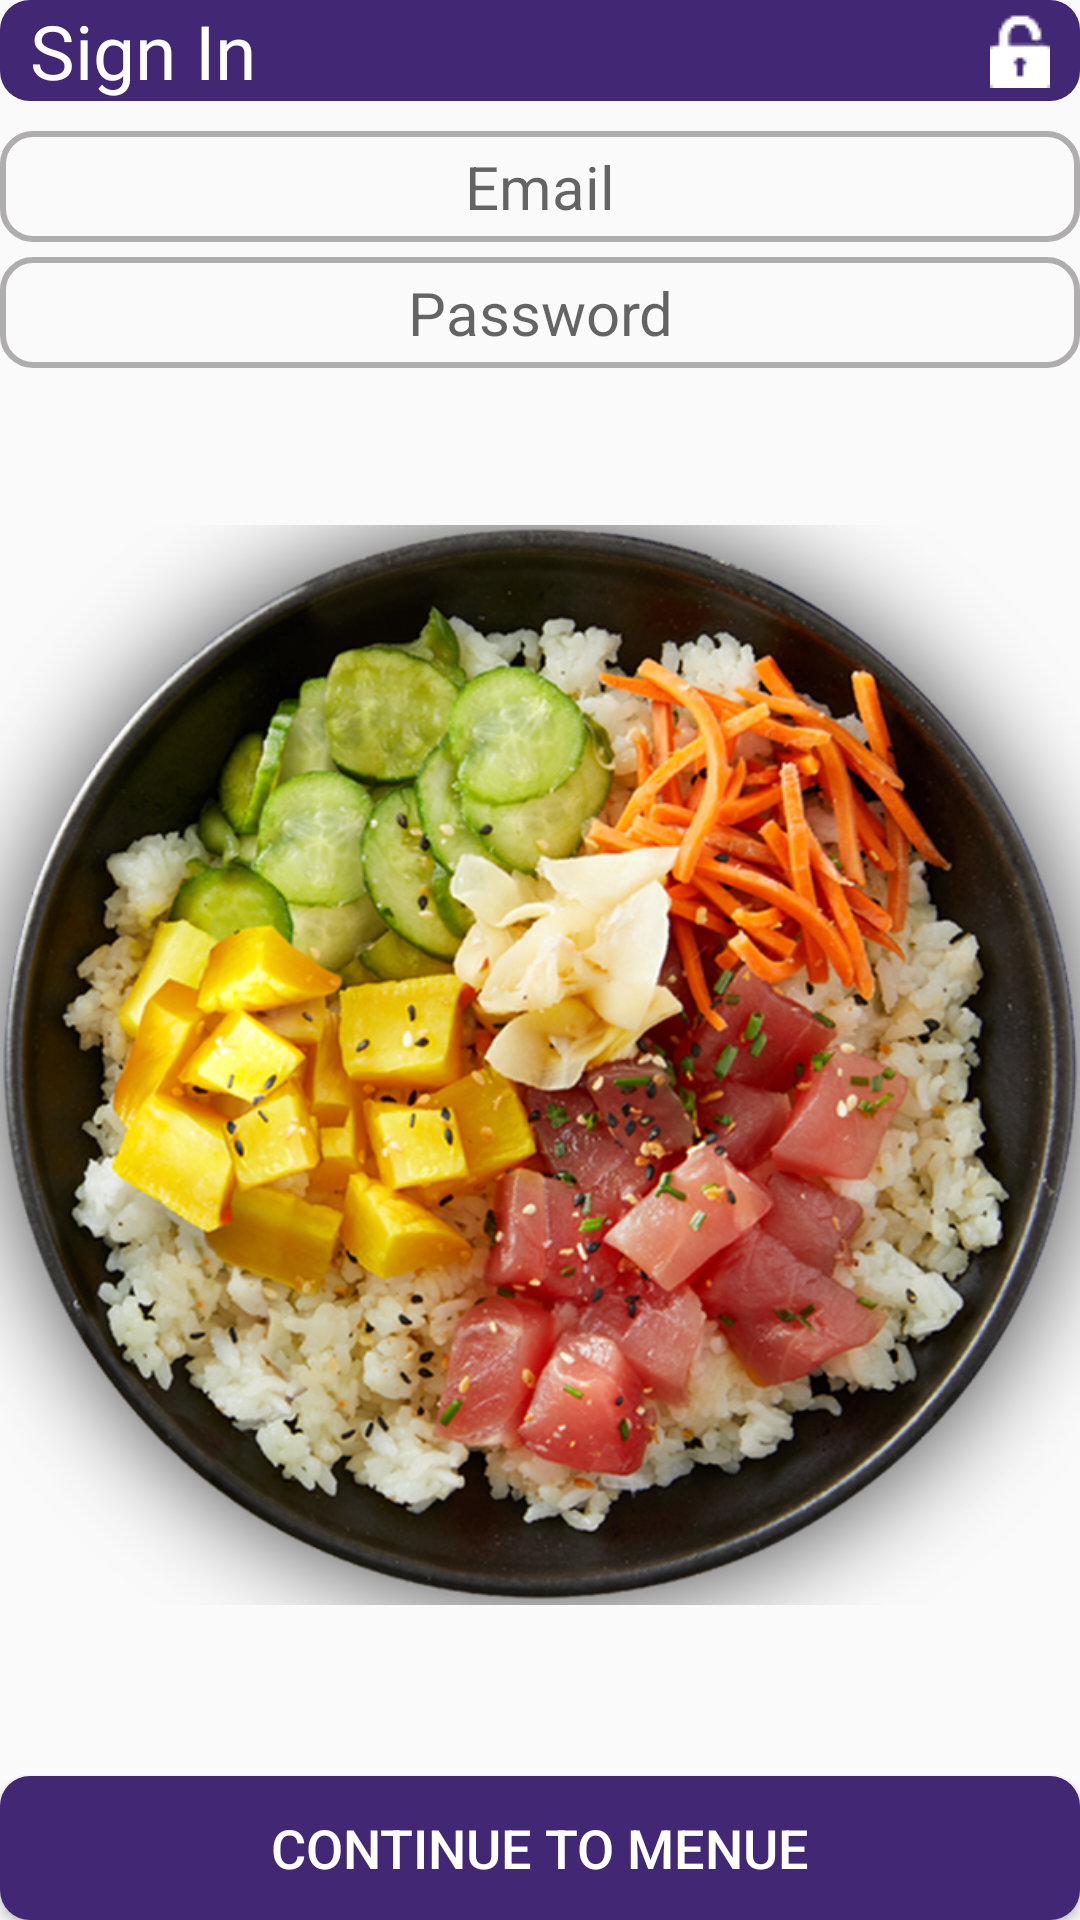

Named icons in this screenshot (1080 x 1920) and their centers, point (x, y):
lock: point (1020, 51)
